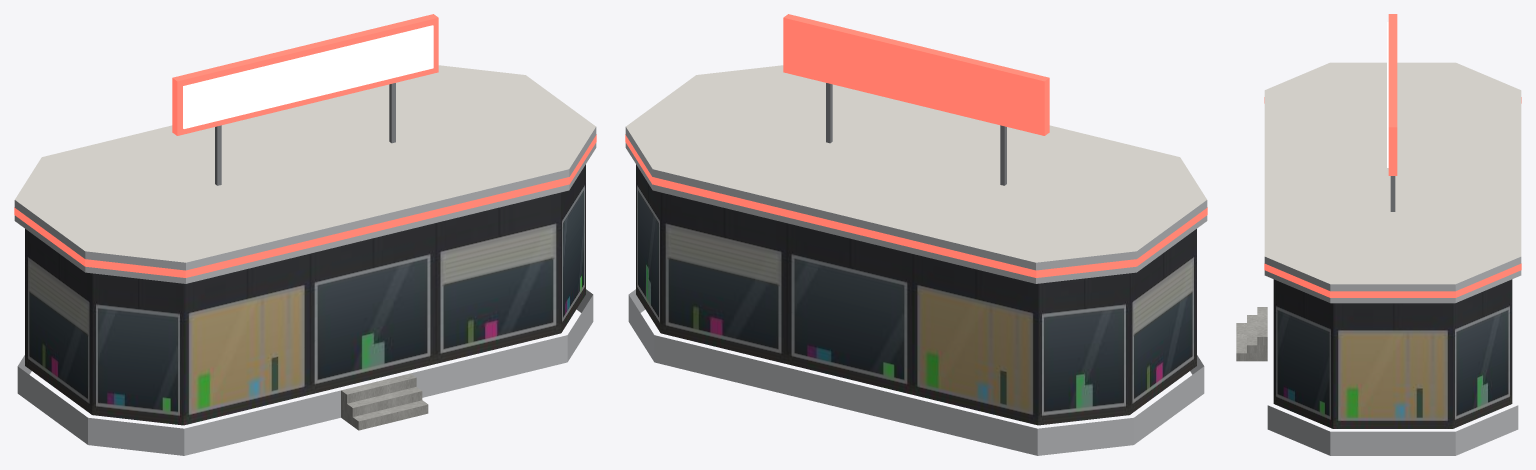
Rendered from 058_diner.glb.
The picture shows the model from 3 angles, left to right: view 1: azimuth 30°, elevation 25°; view 2: azimuth 150°, elevation 25°; view 3: azimuth 270°, elevation 25°; orthographic projection. The views are drawn at different scales.
Parts seen in each view (by area): view 1: 058_diner; view 2: 058_diner; view 3: 058_diner.
Boxes of the visible parts, x1=… form: 058_diner: x1=14, y1=14, x2=596, y2=455; 058_diner: x1=625, y1=14, x2=1207, y2=455; 058_diner: x1=1236, y1=14, x2=1521, y2=455.
Size of the model in its own units: 17.62 by 10.2 by 9.56.
Materials: 7 (2 with a texture image).
